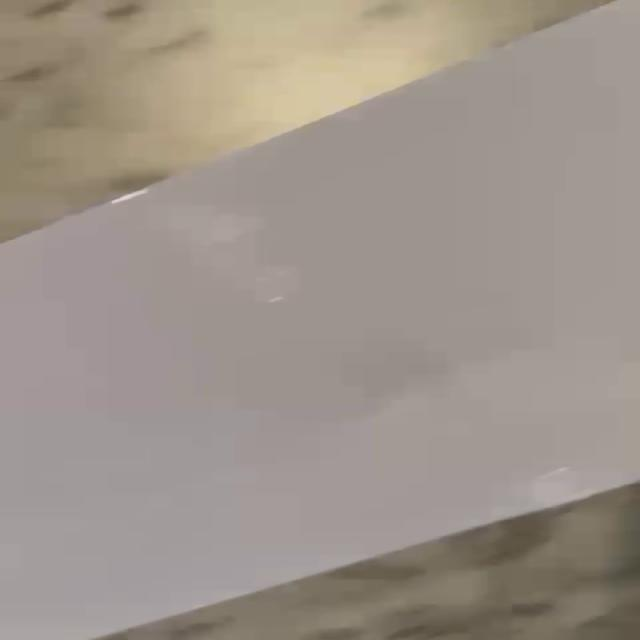road: (0, 0, 640, 640)
